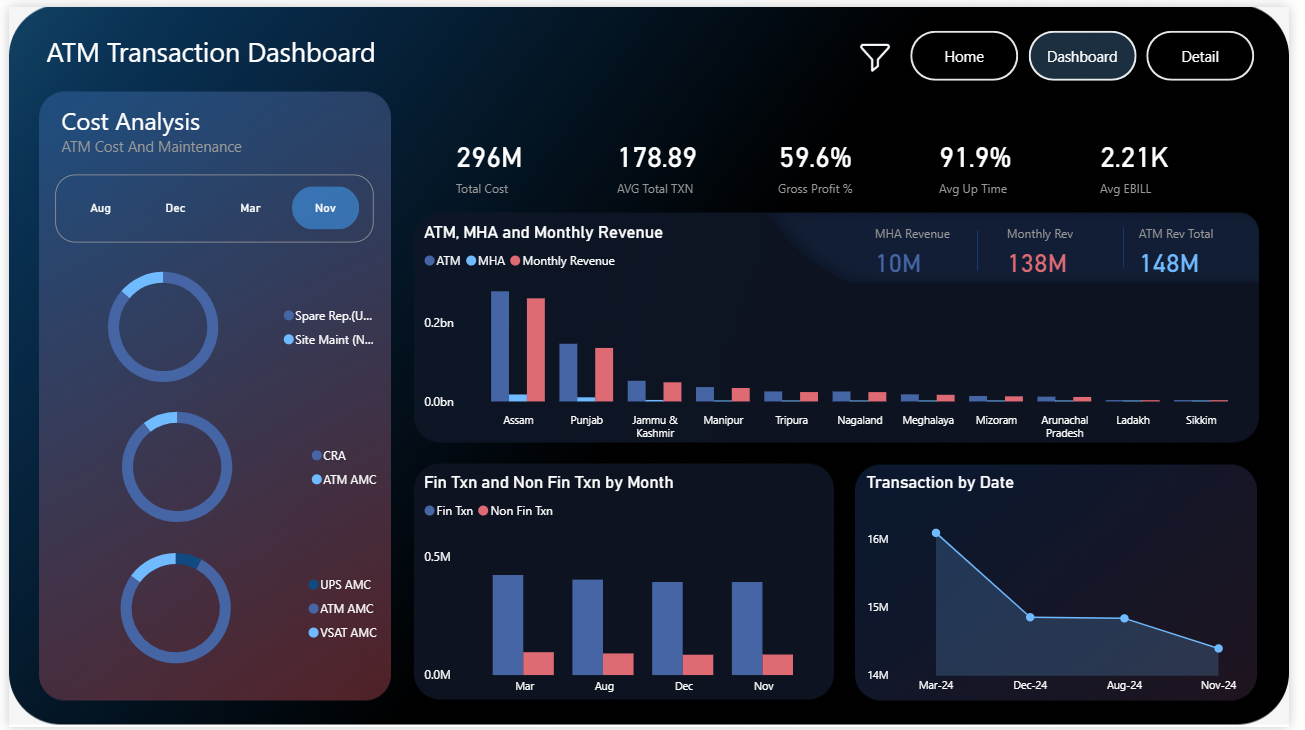

Layout of this report page (visuals, bound fields, positions):
{"tool":"powerbi","page":{"name":"Dashboard","canvas":[1280,720],"ordinal":1},"visuals":[{"type":"donutChart","fields":{"Y":["Sum(DataSet.CRA)","Sum(DataSet.ATM AMC)"]},"box":[30.4,386.5,351.7,147.8],"z":0},{"type":"donutChart","fields":{"Y":["Sum(DataSet.Spare Rep.(UPS))","Sum(DataSet.Site Maint (Non Asset))"]},"box":[30,246.5,351.7,147.8],"z":1000},{"type":"donutChart","fields":{"Y":["Sum(DataSet.UPS AMC)","Sum(DataSet.ATM AMC)","Sum(DataSet.VSAT AMC)"]},"box":[30,527.8,351.7,147.8],"z":2000},{"type":"clusteredColumnChart","title":"ATM, MHA and Monthly Revenue","fields":{"Y":["Sum(DataSet.ATM Rev Total)","Sum(DataSet.MHA Revenue)","Sum(DataSet.Monthly Rev)"],"Category":["DataSet.STATE"]},"box":[410,214.4,842.2,226.7],"z":3000},{"type":"clusteredColumnChart","fields":{"Y":["Sum(DataSet.AVG Fin Txn)","Sum(DataSet.AVG Non Fin Txn)"],"Category":["DataSet.Short_Month"]},"box":[410,465,413.8,231.2],"z":4000},{"type":"areaChart","fields":{"Category":["DataSet.Month-Yr"],"Y":["Sum(DataSet.Monthly Txn)"]},"box":[852.4,465.5,400,231],"z":5000},{"type":"advancedSlicerVisual","fields":{"Values":["DataSet.Short_Month"]},"box":[46.5,167.8,318.7,67.8],"z":6000},{"type":"cardVisual","fields":{"Data":["Sum(DataSet. Total Cost  )","Avg(DataSet.AVG Total TXN)","DataSet.Gross Profit Percentage","Avg(DataSet.Up Time)","Avg(DataSet. EBILL )"]},"box":[410,114.4,827.8,93.3],"z":7000},{"type":"textbox","box":[47.5,92.5,317.5,75],"z":8000},{"type":"cardVisual","fields":{"Data":["Sum(DataSet.MHA Revenue)","Sum(DataSet.Monthly Rev)","Sum(DataSet.ATM Rev Total)"]},"box":[828.9,201.1,420,76.7],"z":9000},{"type":"pageNavigator","box":[901.2,23.3,345.3,50],"z":10000},{"type":"textbox","box":[32.1,21.4,340,46],"z":11000},{"type":"image","box":[852.3,27.9,48.8,45.3],"z":13000}]}

Visuals, with their boxes in screenshot pixels (x1, y1, x2, y2), scaled from the page's 1280x720 canvas onto the 1305x730 screenshot:
donutChart - Sum(DataSet.CRA) x Sum(DataSet.ATM AMC): (left=31, top=392, right=390, bottom=542)
donutChart - Sum(DataSet.Spare Rep.(UPS)) x Sum(DataSet.Site Maint (Non Asset)): (left=31, top=250, right=389, bottom=400)
donutChart - Sum(DataSet.UPS AMC) x Sum(DataSet.ATM AMC): (left=31, top=535, right=389, bottom=685)
"ATM, MHA and Monthly Revenue" clusteredColumnChart: (left=418, top=217, right=1277, bottom=447)
clusteredColumnChart - Sum(DataSet.AVG Fin Txn) x Sum(DataSet.AVG Non Fin Txn): (left=418, top=471, right=840, bottom=706)
areaChart - DataSet.Month-Yr x Sum(DataSet.Monthly Txn): (left=869, top=472, right=1277, bottom=706)
advancedSlicerVisual - DataSet.Short_Month: (left=47, top=170, right=372, bottom=239)
cardVisual - Sum(DataSet. Total Cost  ) x Avg(DataSet.AVG Total TXN): (left=418, top=116, right=1262, bottom=211)
textbox: (left=48, top=94, right=372, bottom=170)
cardVisual - Sum(DataSet.MHA Revenue) x Sum(DataSet.Monthly Rev): (left=845, top=204, right=1273, bottom=282)
pageNavigator: (left=919, top=24, right=1271, bottom=74)
textbox: (left=33, top=22, right=379, bottom=68)
image: (left=869, top=28, right=919, bottom=74)
